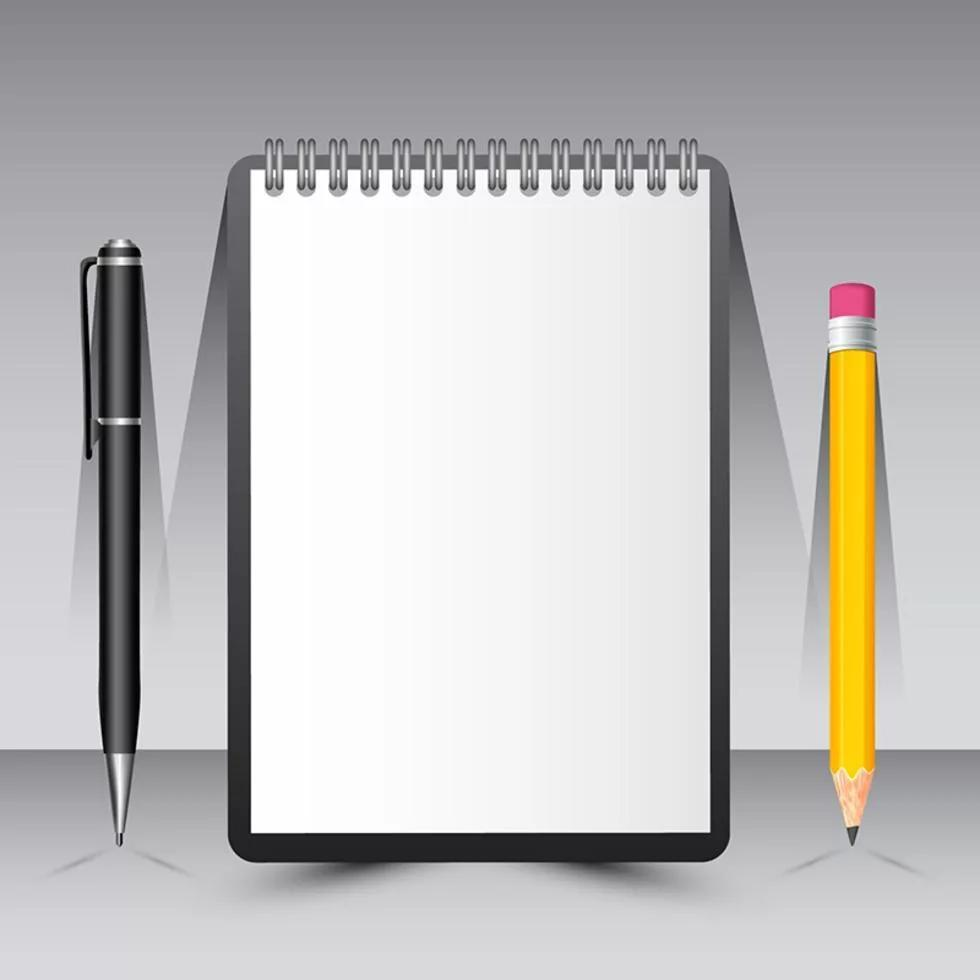pen-pencil: (85, 239, 142, 845), (828, 283, 875, 844)
